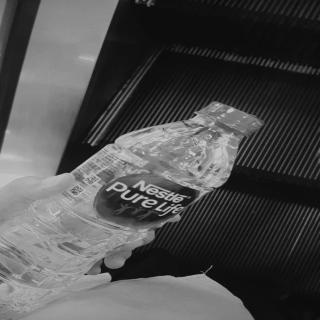plastic_bottles: (7, 97, 263, 320)
